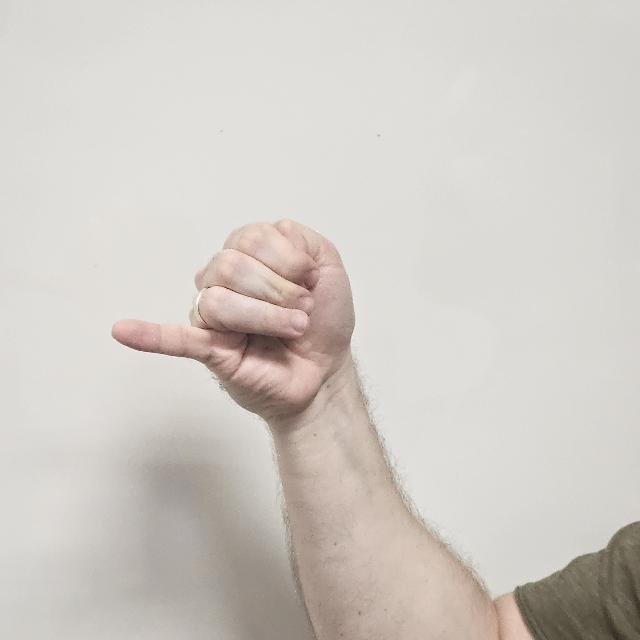Esquerda: (101, 169, 402, 449)
